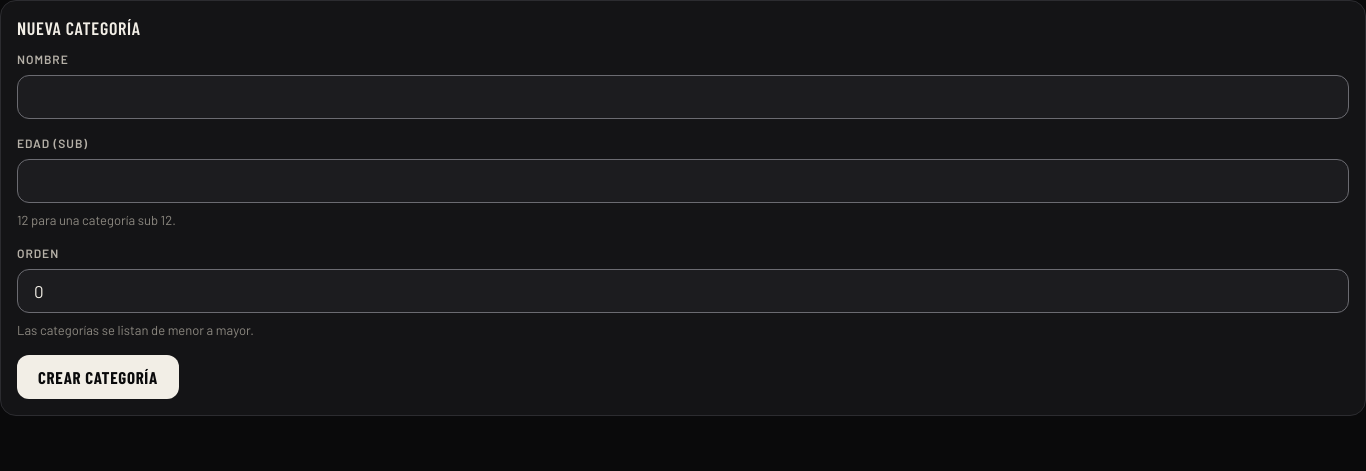
it: CategoryEditor · una categoría nueva › mientras crea, el botón espera y no se lanza un segundo alta
Step 1. Click the button "Crear categoría" → {"x": 98, "y": 377}, box [17,355,179,399]
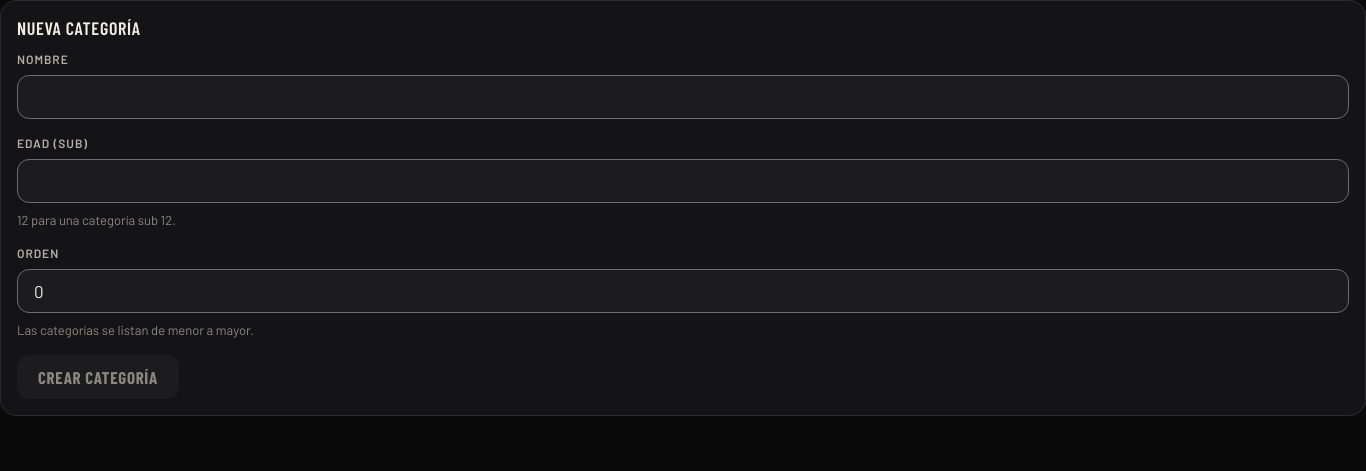
Result: the button "Crear categoría" is disabled
Step 2. Click the button "Crear categoría" → {"x": 98, "y": 377}, box [17,355,179,399]
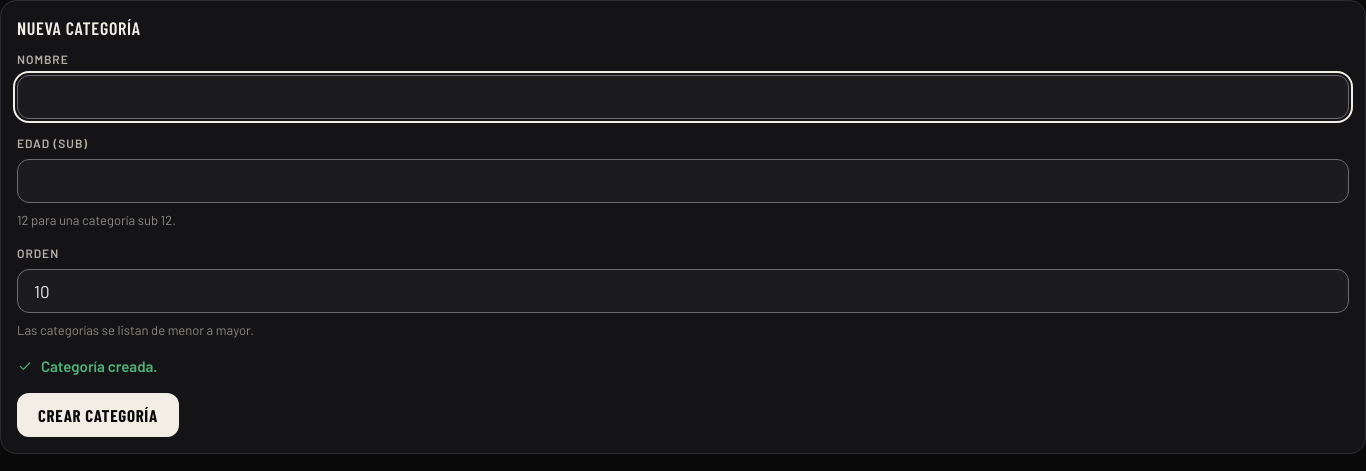
Result: the text "Categoría creada." is shown at [17,357,158,375]
